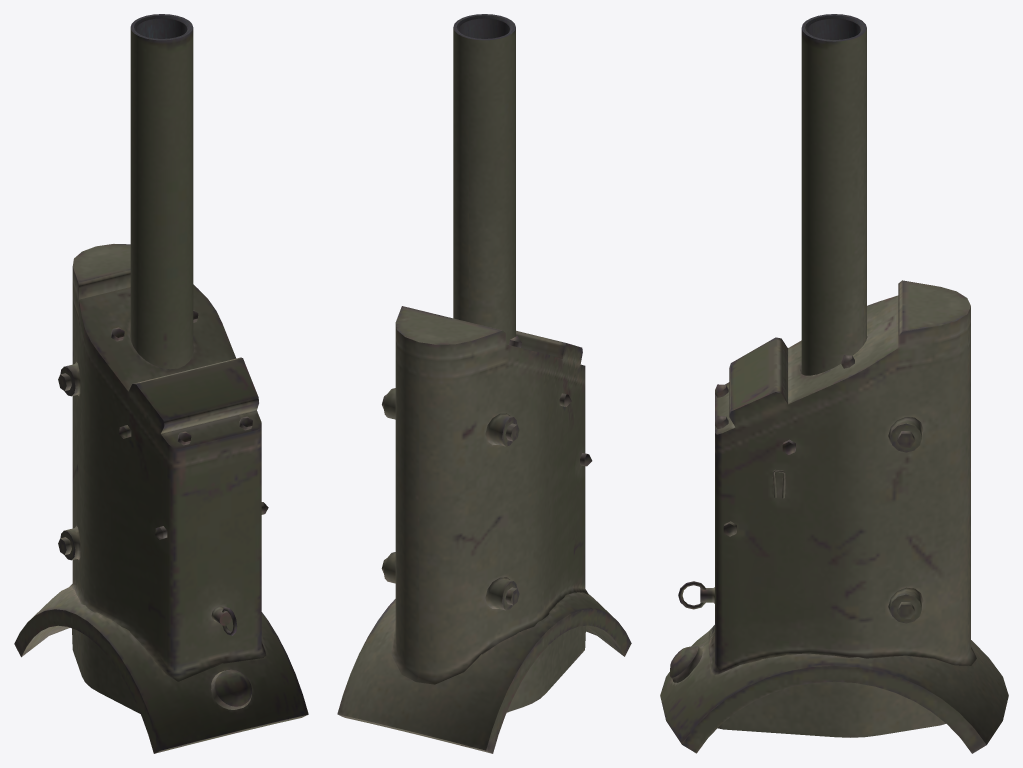
The model's file is Gun_02.glb.
3 views of the same model, side by side, from view 1: azimuth 30°, elevation 25°; view 2: azimuth 150°, elevation 25°; view 3: azimuth 270°, elevation 25° (orthographic). The views are drawn at different scales.
Parts seen in each view (by area): view 1: set_0_group_0; view 2: set_0_group_0; view 3: set_0_group_0.
Boxes of the visible parts, x1,y1,x2,y2 form: set_0_group_0: (14,14,308,753); set_0_group_0: (337,14,631,753); set_0_group_0: (660,14,1008,753).
Size of the model in its own units: 0.4148 by 1.76 by 0.8075.
1 material, 1 textured.
